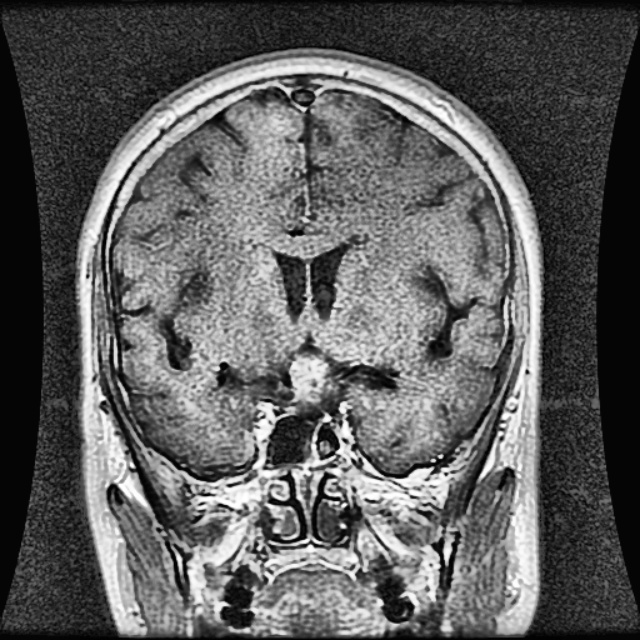Pituitary: (288, 349, 337, 403)
